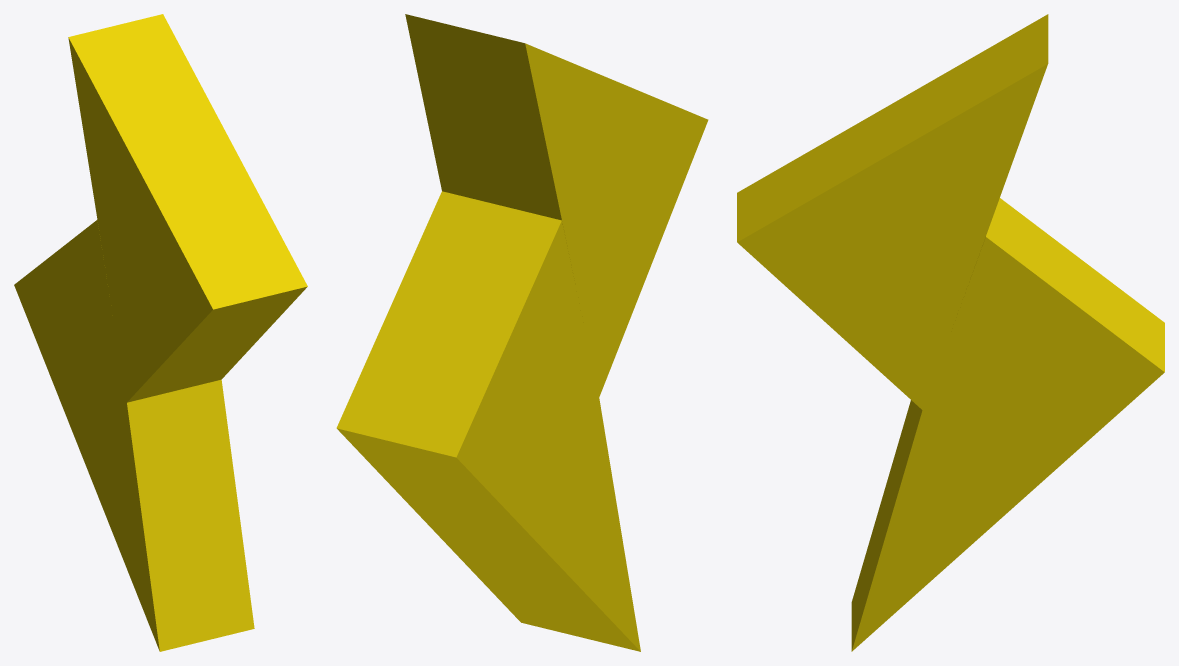
The model's file is Raio 1.fbx.
3 renders of one model, left to right at view 1: azimuth 30°, elevation 25°; view 2: azimuth 150°, elevation 25°; view 3: azimuth 270°, elevation 25°, orthographic. The views are drawn at different scales.
Visible parts, largest first — view 1: Cube; view 2: Cube; view 3: Cube.
Boxes of the visible parts, x1,y1,x2,y2 form: Cube: (14,14,307,651); Cube: (336,14,708,651); Cube: (737,14,1164,651).
Bounding box in the file's own units: 80.65 × 446 × 294.
